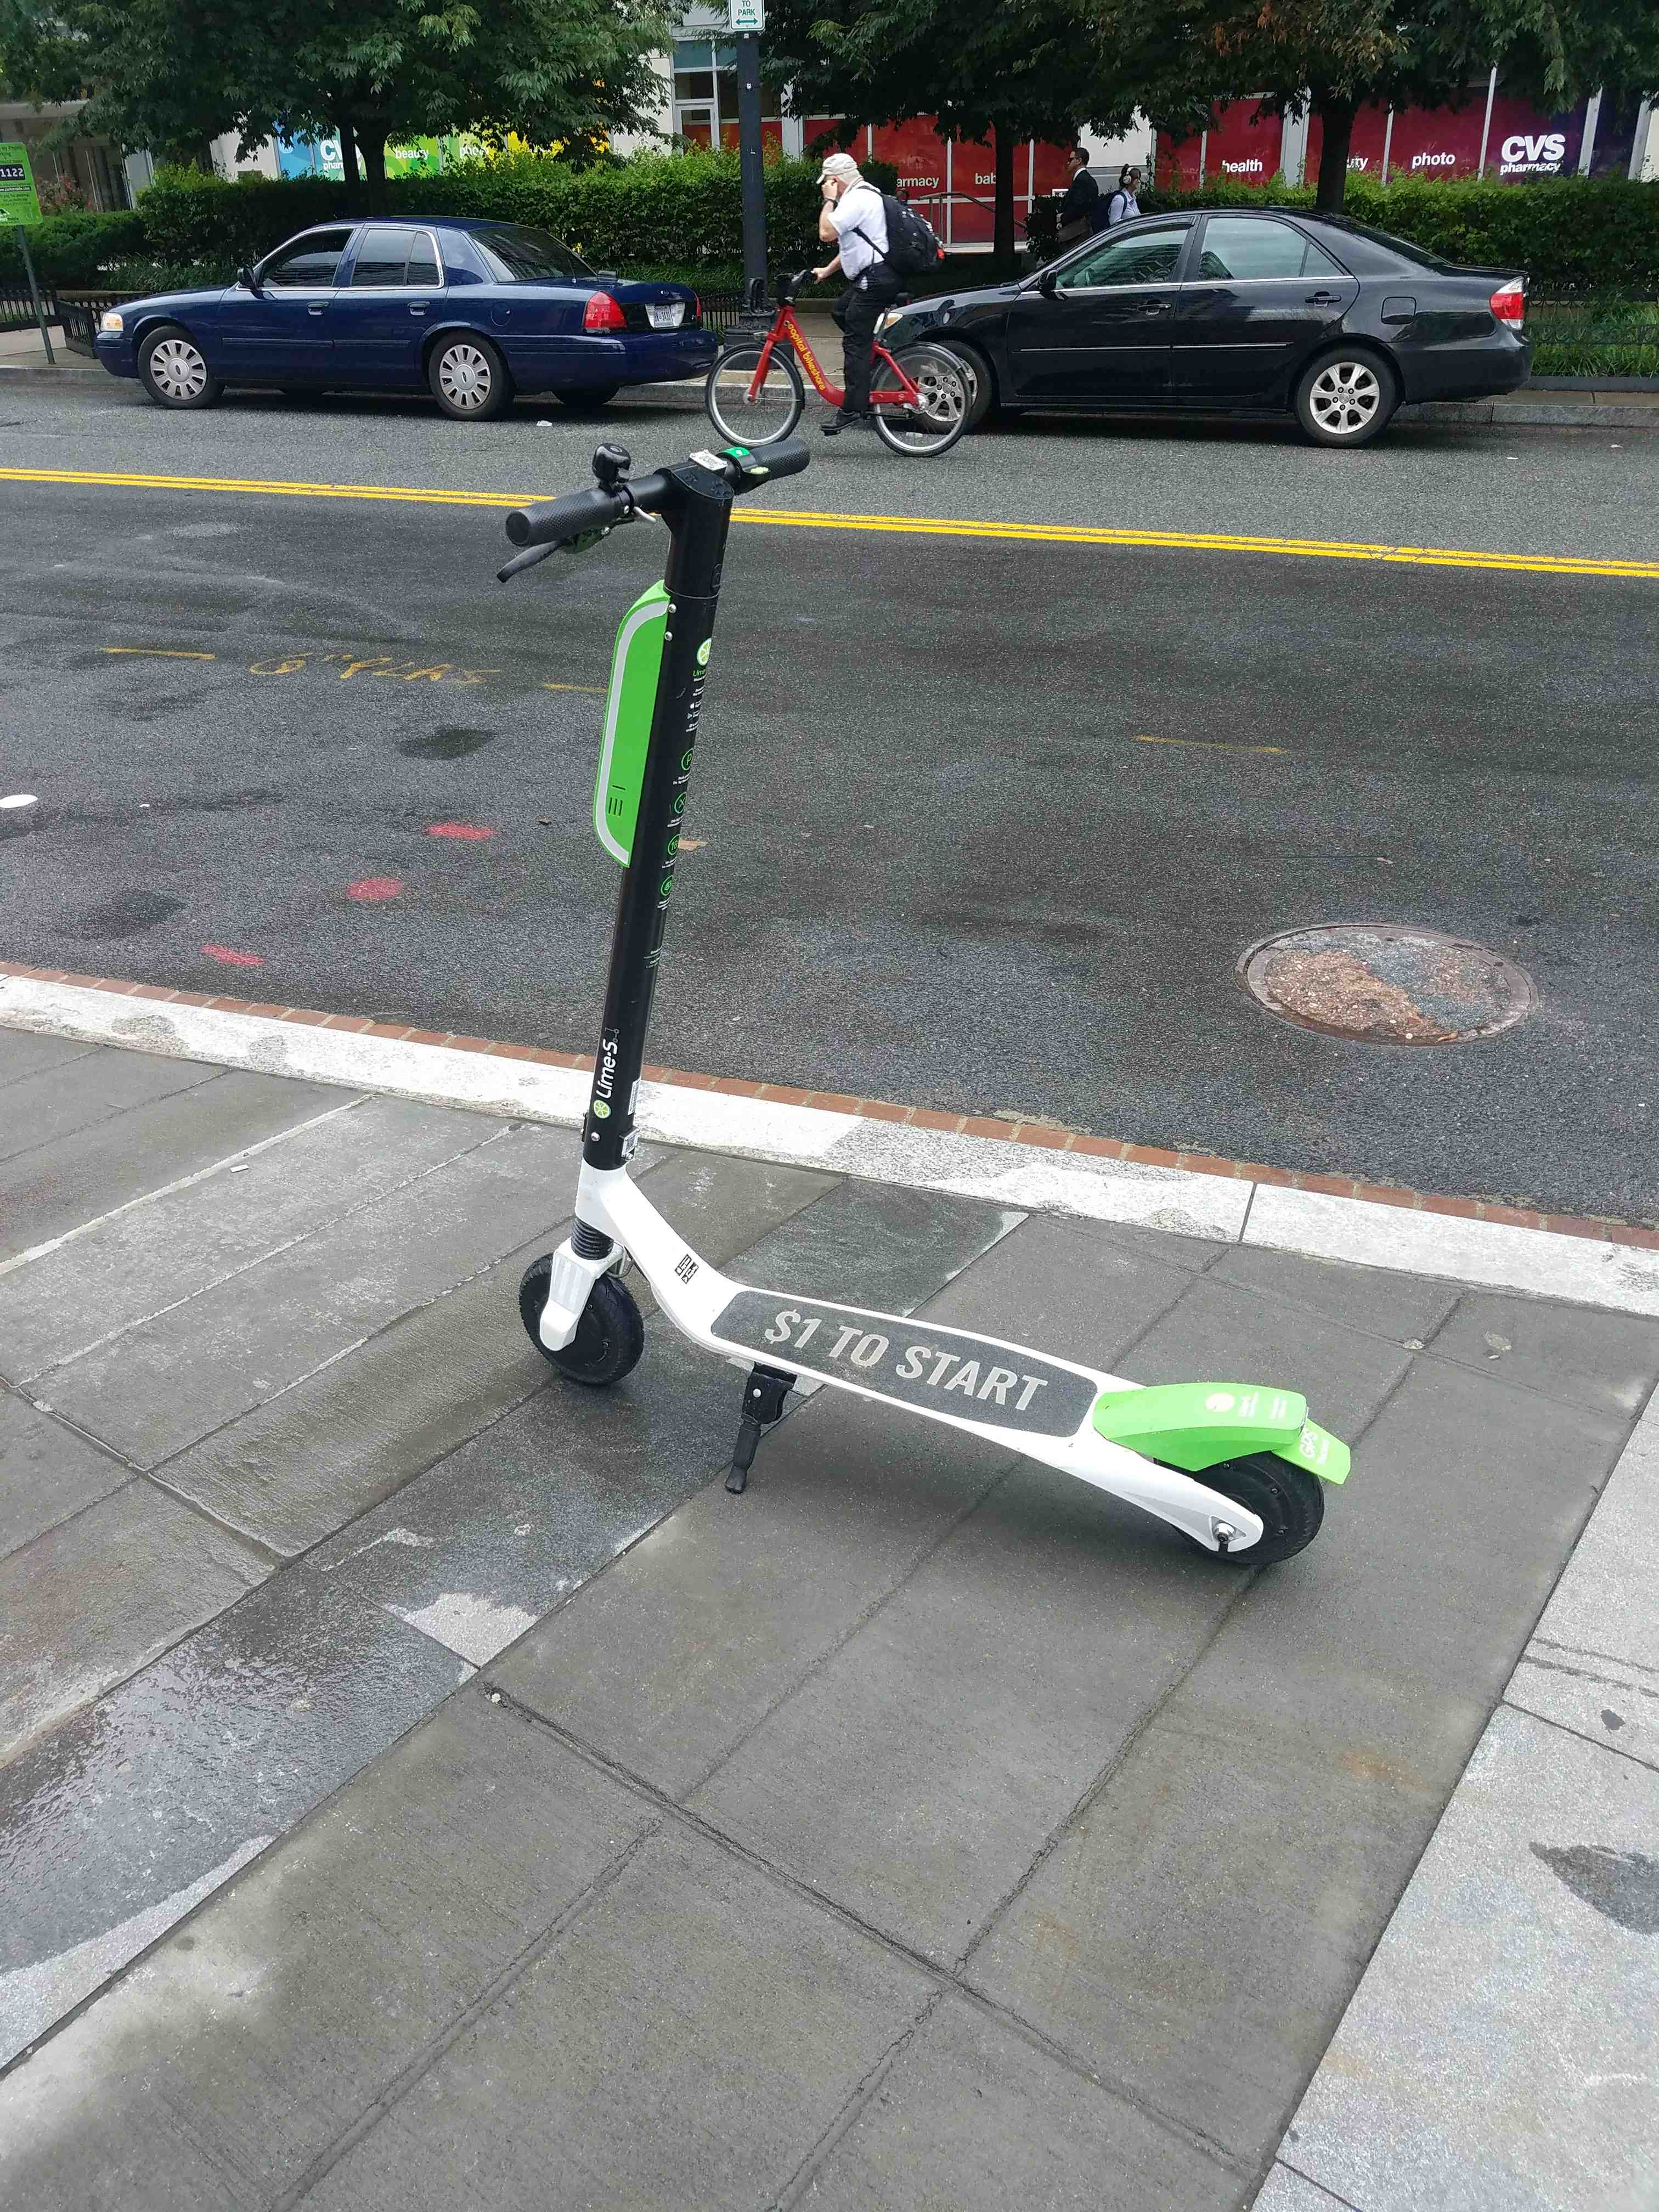scooter: (479, 423, 1351, 1615)
